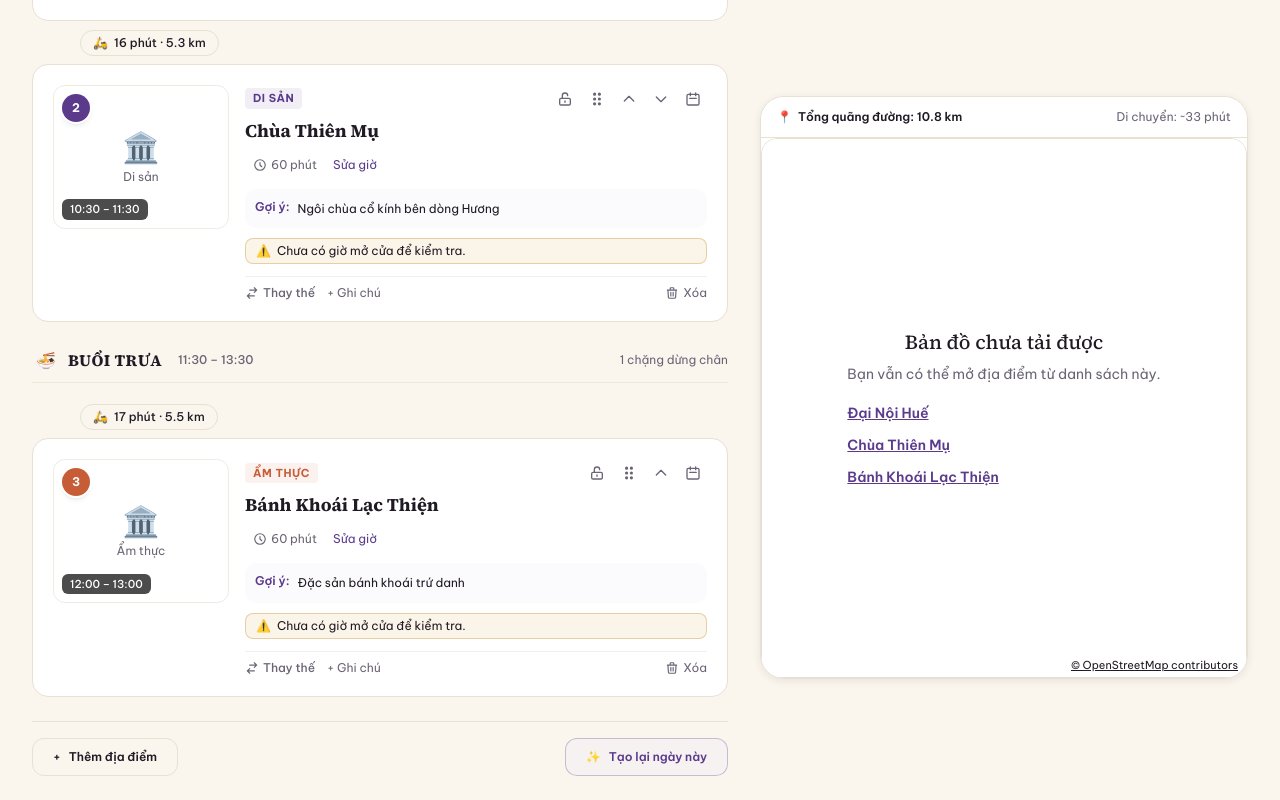
TripEditorPage › opens the regenerate-day dialog and can lock all stops before submitting
This screenshot has width=1280, height=800.
(page scrolled)
Click the button "✨ Tạo lại ngày này".
click(646, 756)  # box [565,738,728,776]
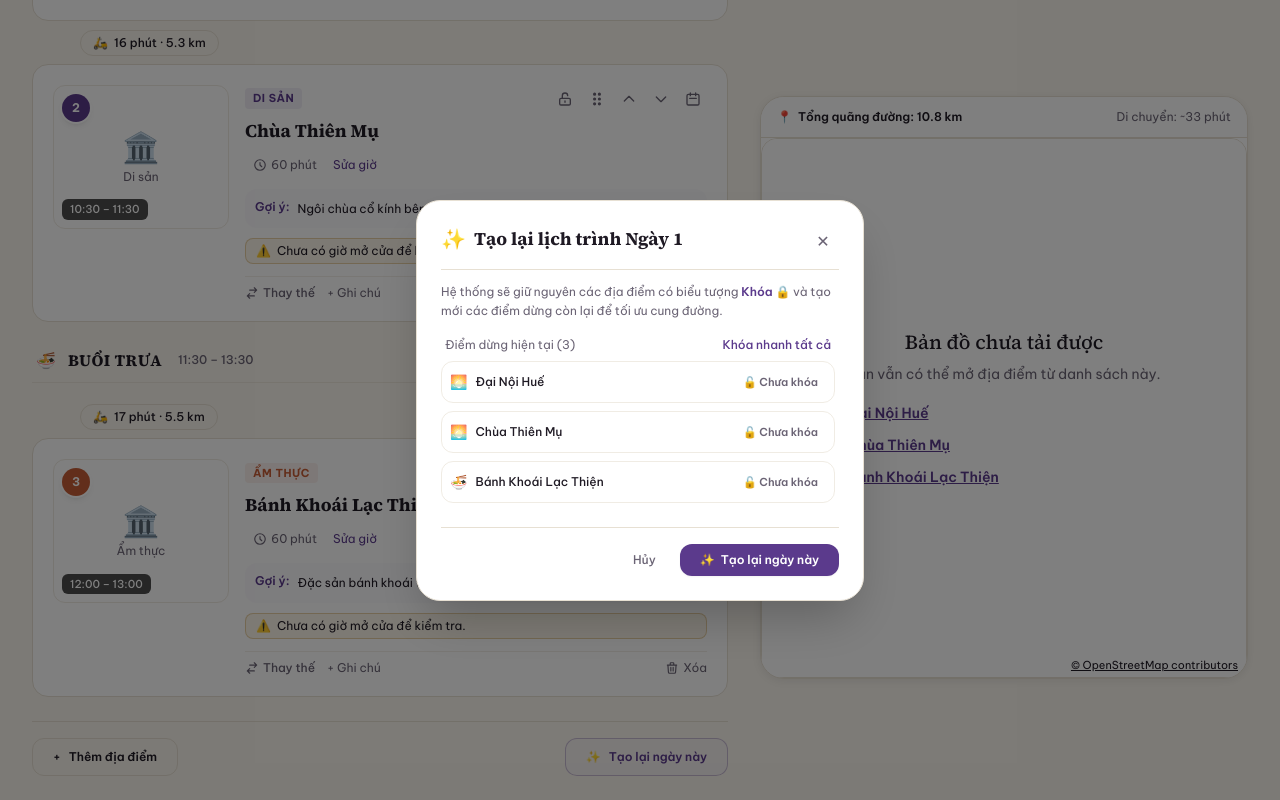
Expected: the dialog shows "Điểm dừng hiện tại", [445,336,562,352]
Click the button "Khóa nhanh tất cả".
click(777, 344)  # box [722,336,831,352]
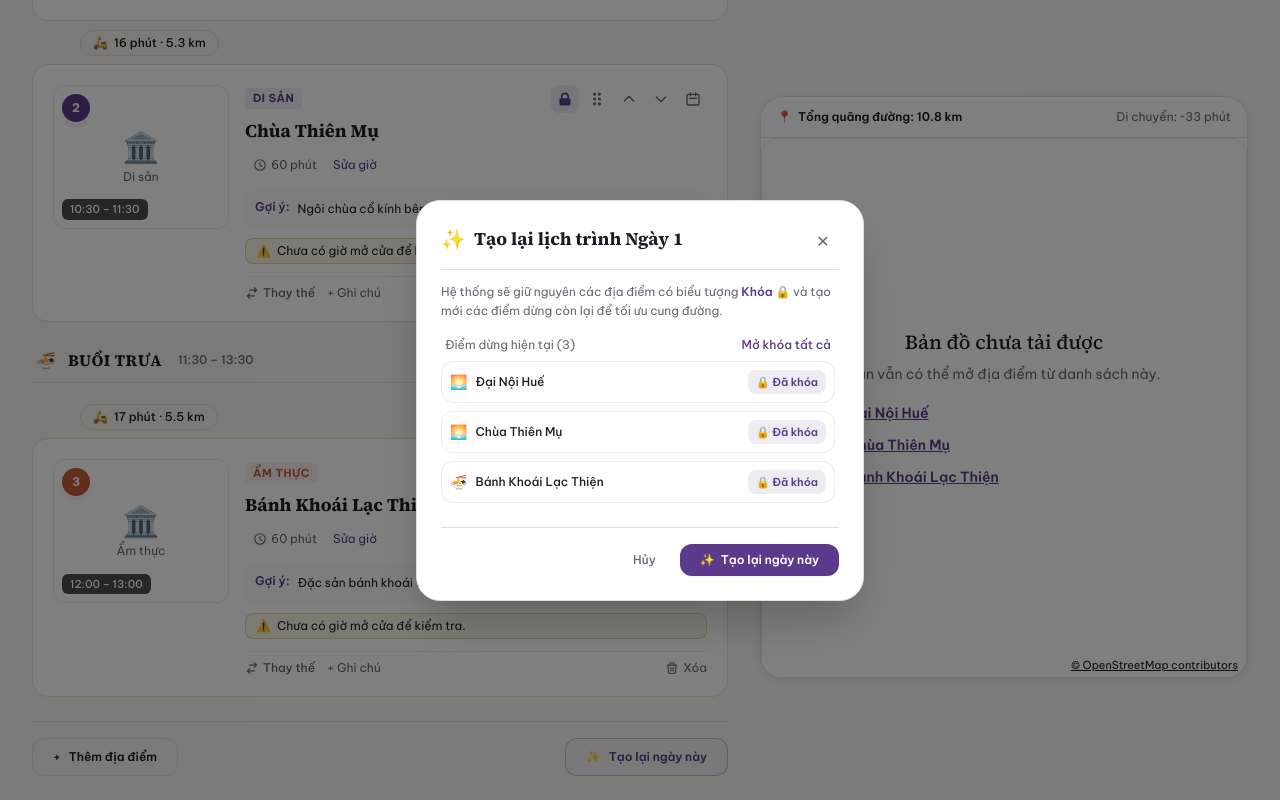
Expected: the dialog shows "Mở khóa tất cả", [742,336,831,352]
Expected: the dialog shows "🔒 Đã khóa", [748,370,826,394]
